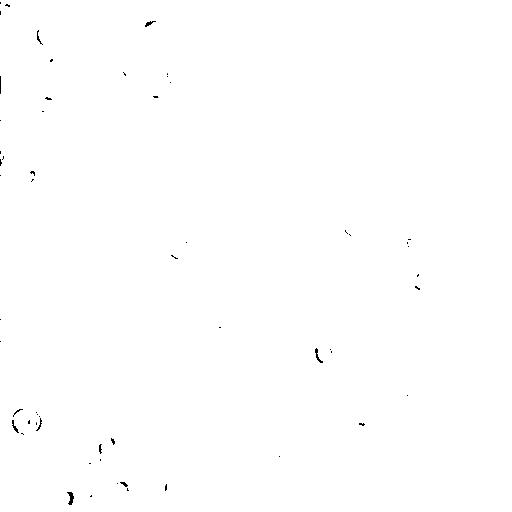micro-algae: (209, 356, 293, 437), (0, 65, 58, 127), (131, 0, 201, 40), (375, 97, 423, 152), (303, 293, 350, 349), (91, 52, 123, 94), (391, 225, 429, 259), (346, 399, 382, 434), (300, 59, 329, 91), (412, 261, 441, 293), (12, 405, 42, 435), (362, 49, 394, 77), (397, 327, 425, 357), (333, 303, 367, 327), (53, 405, 78, 437), (269, 95, 297, 122), (269, 449, 298, 475), (139, 17, 167, 43), (189, 157, 218, 182), (421, 0, 459, 19), (167, 61, 191, 91), (291, 348, 319, 373), (104, 417, 133, 441), (197, 322, 220, 352), (388, 281, 415, 305), (75, 483, 103, 505), (213, 139, 237, 163), (149, 490, 175, 512), (167, 238, 190, 261), (164, 477, 186, 500), (121, 55, 141, 80), (393, 391, 417, 411), (37, 23, 55, 49), (314, 341, 334, 364), (1, 0, 31, 15), (343, 217, 365, 237), (99, 436, 115, 463), (53, 489, 77, 507), (35, 96, 60, 113), (109, 479, 131, 497), (189, 498, 217, 512), (247, 1, 280, 12), (130, 296, 148, 316), (37, 50, 59, 65), (18, 169, 37, 186), (1, 168, 13, 193), (86, 452, 103, 469), (59, 0, 79, 8), (1, 149, 7, 167)
